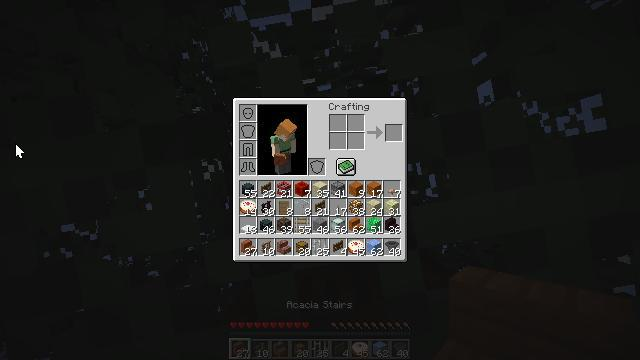cursor: (15, 143, 25, 159)
